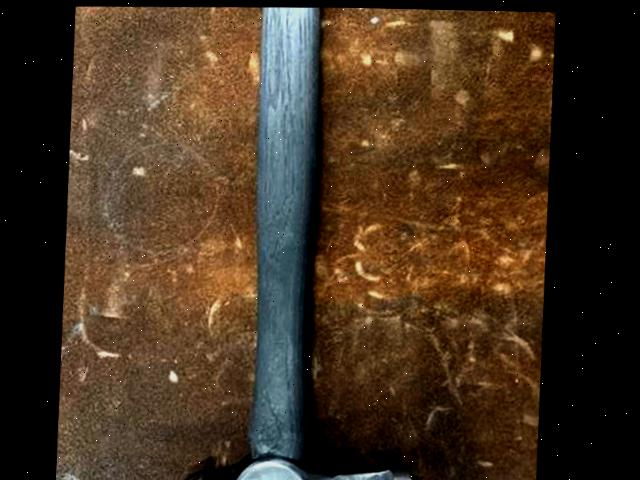hammer: (164, 3, 458, 480)
